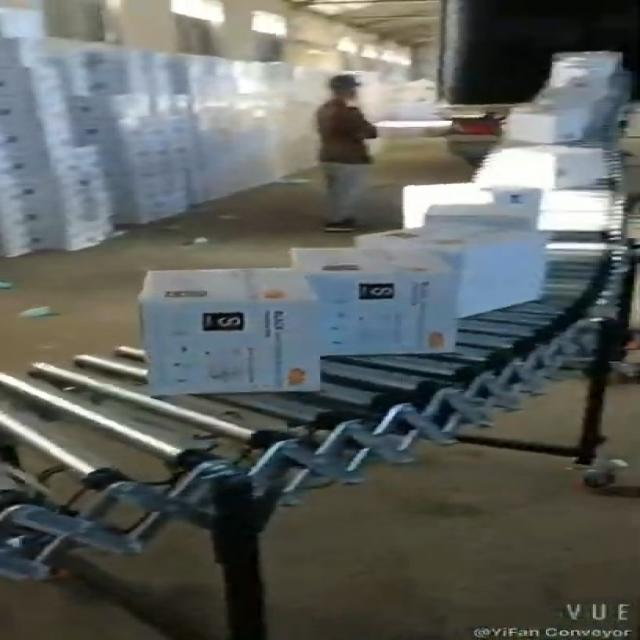Convoyeur: (0, 84, 640, 585)
